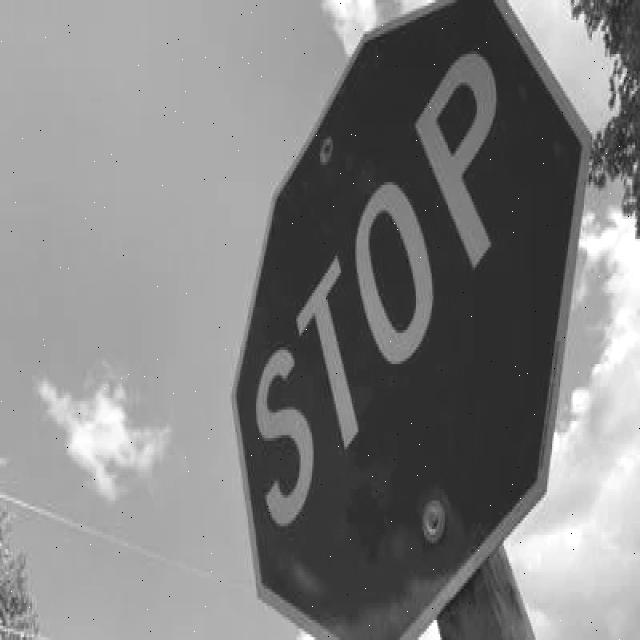Stop-sign: (222, 0, 610, 640)
